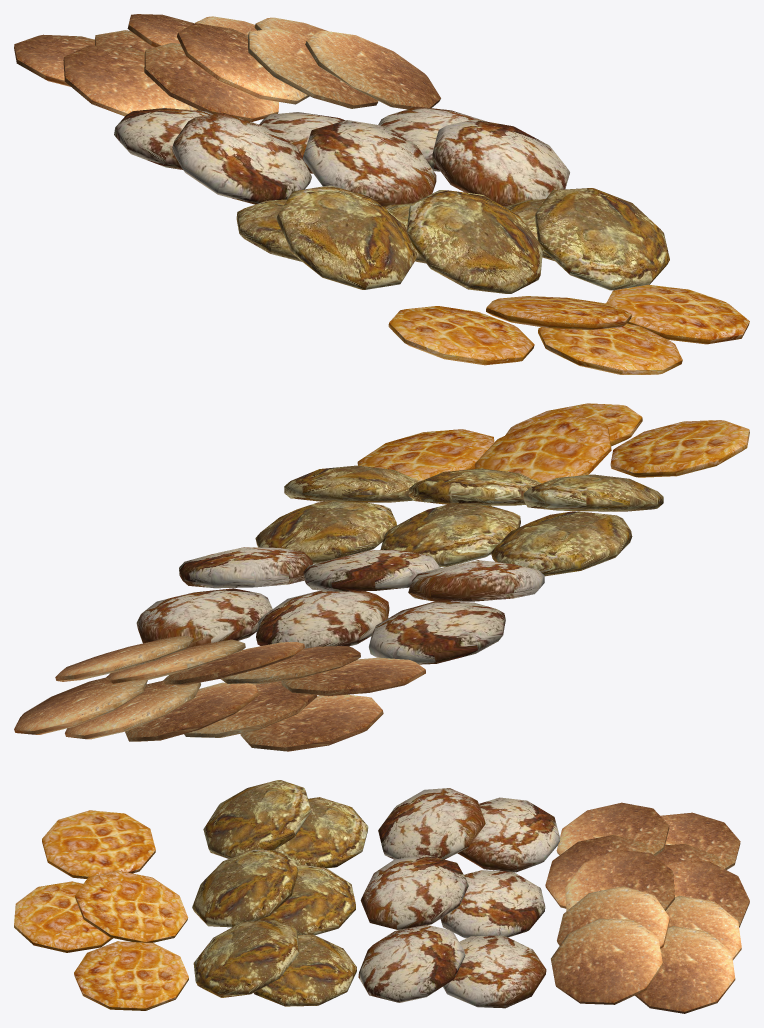
File: bread_booth01_LOD02.fbx
3 views of the same model, one above another, from view 1: azimuth 30°, elevation 25°; view 2: azimuth 150°, elevation 25°; view 3: azimuth 270°, elevation 25° (orthographic). The views are drawn at different scales.
Visible parts, largest first — view 1: Mesh Object; view 2: Mesh Object; view 3: Mesh Object.
Part boxes in pixels (x1,y1,x2,y2): Mesh Object: (14,14,749,374); Mesh Object: (14,403,749,751); Mesh Object: (14,780,749,1013).
Size of the model in its own units: 0.8568 by 0.2836 by 1.85.
